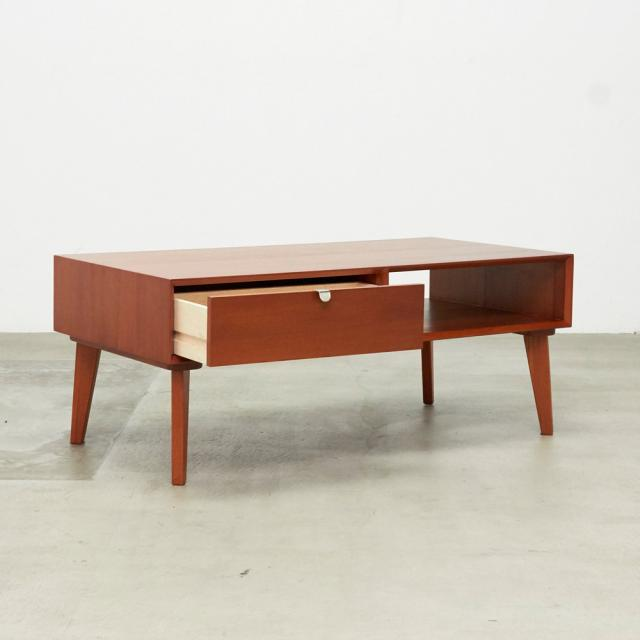vintage shelf: (48, 241, 582, 487)
